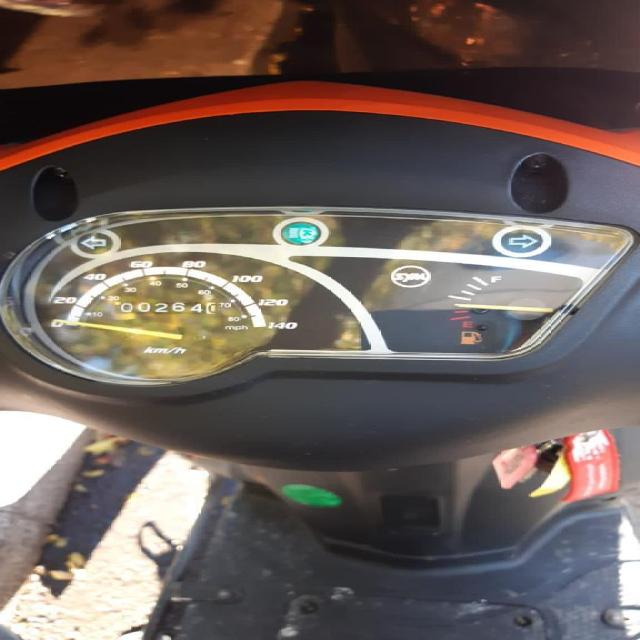odometer: (110, 300, 218, 316)
